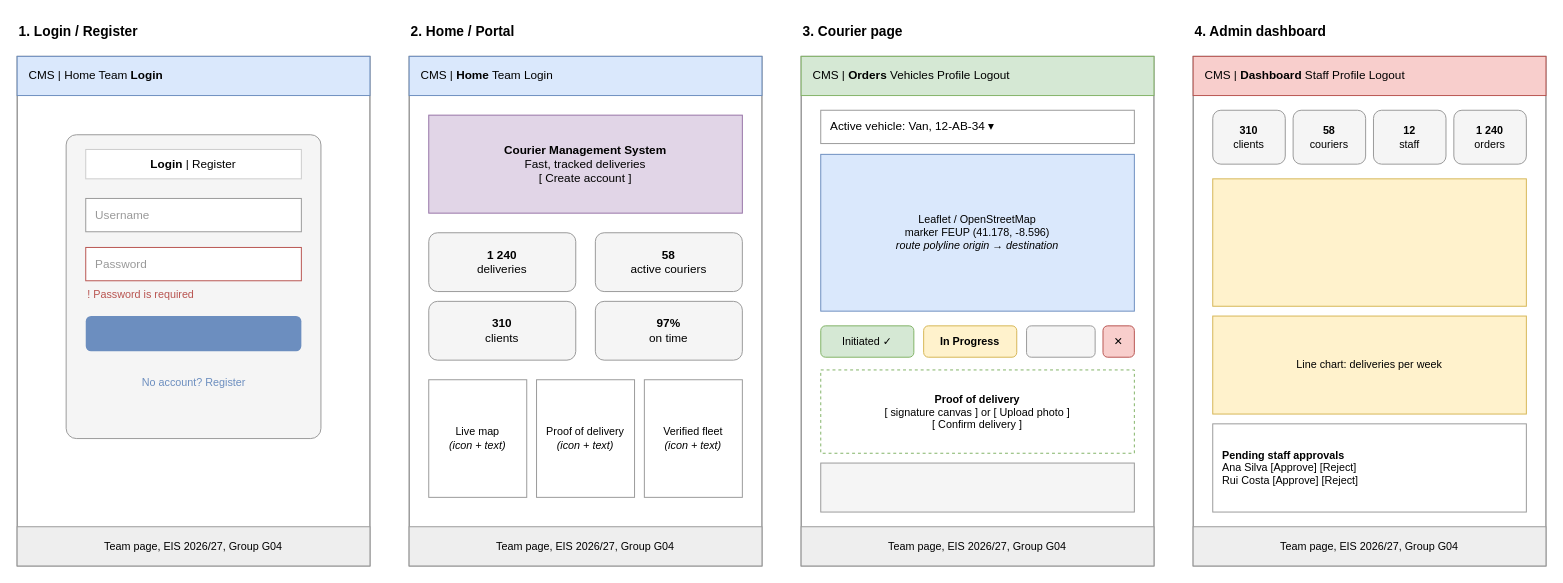
This 1563x583 diagram has some shape labels left out. The centre of each missing label's shape, as x and y in pixels:
Bar chart: orders by status (Initiated, In Progress, Completed, Cancelled): (1369,242)
Completed: (1060,341)
Completed orders: #1021, #1017, #1009 …: (977,487)
Login: (193,333)
